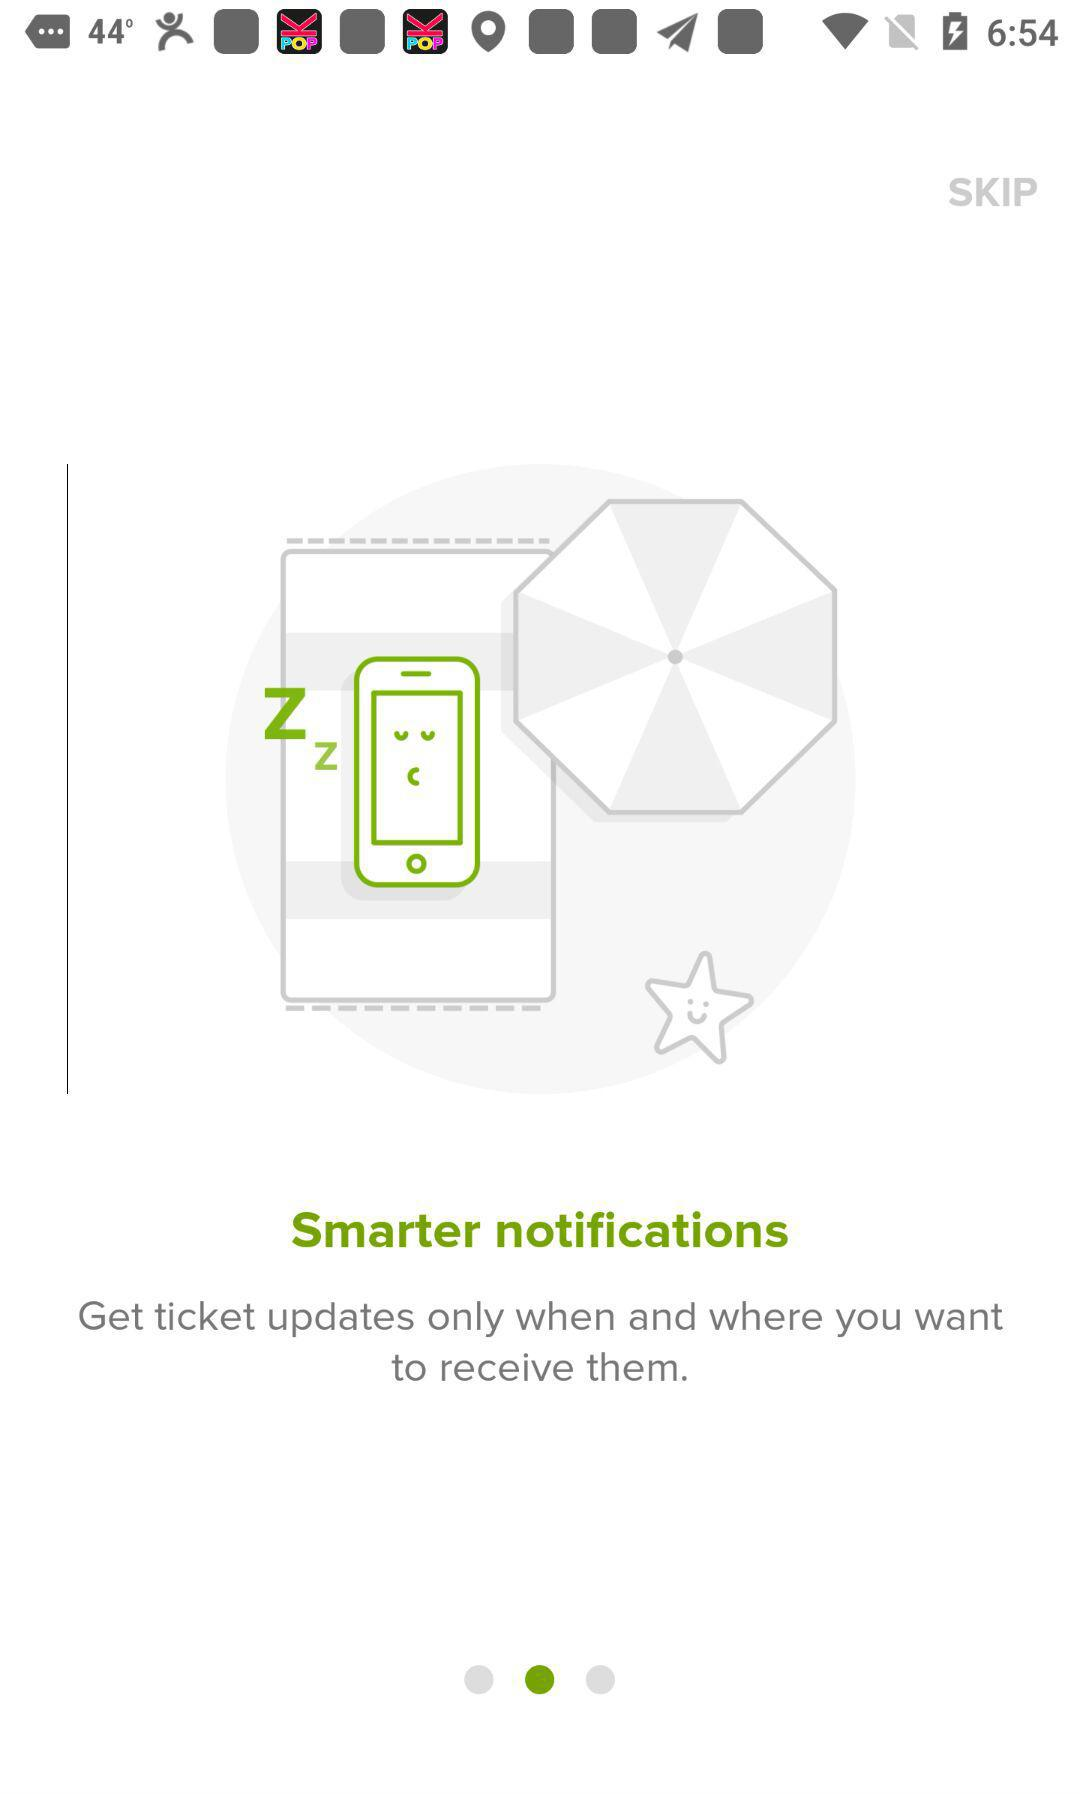Image: (218, 463, 858, 1097)
PageIndicator: (462, 1663, 618, 1697)
Text: (78, 1297, 1004, 1383), (290, 1210, 790, 1249), (948, 176, 1038, 208)
UpperTaskBar: (1, 1, 1080, 64)
